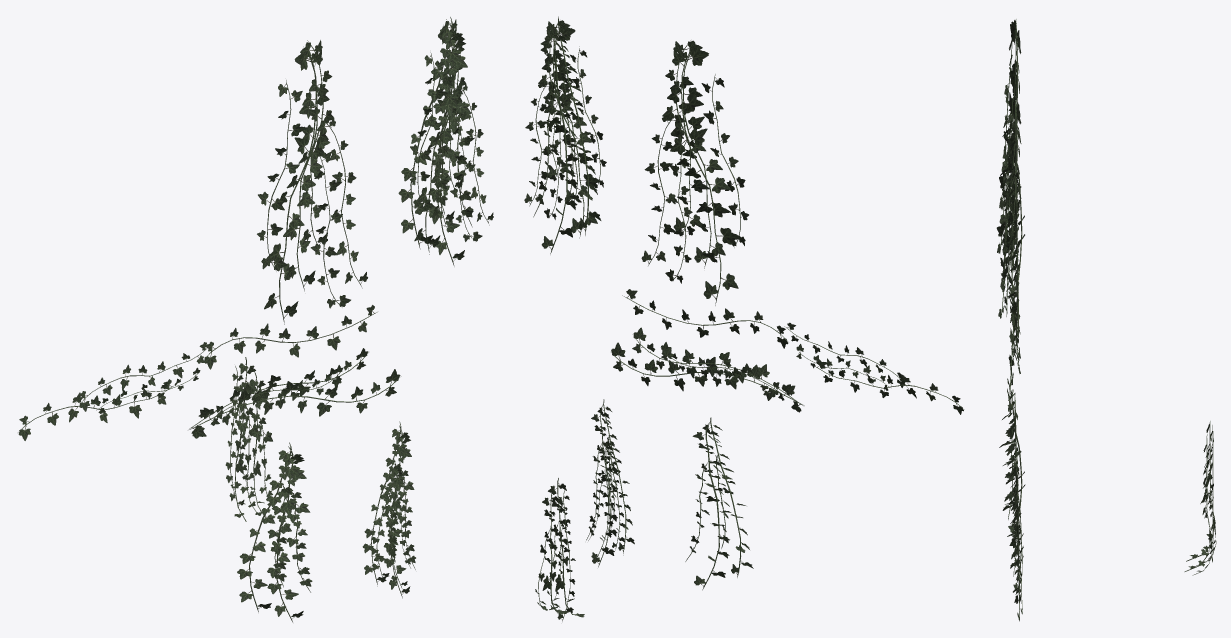
Rendered from Ivy Group 1.fbx.
3 views of the same model, side by side, from view 1: azimuth 30°, elevation 25°; view 2: azimuth 150°, elevation 25°; view 3: azimuth 270°, elevation 25° (orthographic). The views are drawn at different scales.
Parts seen in each view (by area): view 1: Ivy Group 8, Ivy Group 4, Ivy Group 5, Ivy Group 7, Ivy Group 2, Ivy Group 6, Ivy Group 3, Ivy Group 1; view 2: Ivy Group 4, Ivy Group 8, Ivy Group 2, Ivy Group 7, Ivy Group 5, Ivy Group 6, Ivy Group 3, Ivy Group 1; view 3: Ivy Group 8, Ivy Group 4, Ivy Group 6, Ivy Group 5, Ivy Group 7, Ivy Group 2.
Part boxes in pixels (<box>): Ivy Group 8: <box>398,17,493,266</box>; Ivy Group 4: <box>257,40,367,324</box>; Ivy Group 5: <box>237,442,312,622</box>; Ivy Group 7: <box>362,421,415,598</box>; Ivy Group 2: <box>189,348,401,438</box>; Ivy Group 6: <box>225,357,272,521</box>; Ivy Group 3: <box>18,342,209,440</box>; Ivy Group 1: <box>204,305,377,369</box>; Ivy Group 4: <box>641,40,748,305</box>; Ivy Group 8: <box>524,16,606,254</box>; Ivy Group 2: <box>611,327,804,412</box>; Ivy Group 7: <box>586,399,634,567</box>; Ivy Group 5: <box>685,417,753,590</box>; Ivy Group 6: <box>535,478,584,621</box>; Ivy Group 3: <box>784,322,964,414</box>; Ivy Group 1: <box>622,289,788,348</box>; Ivy Group 8: <box>996,95,1024,341</box>; Ivy Group 4: <box>999,19,1021,288</box>; Ivy Group 6: <box>1184,421,1216,575</box>; Ivy Group 5: <box>999,389,1025,566</box>; Ivy Group 7: <box>1008,448,1023,621</box>; Ivy Group 2: <box>1007,298,1020,413</box>.
Size of the model in its own units: 479 by 566 by 201.
